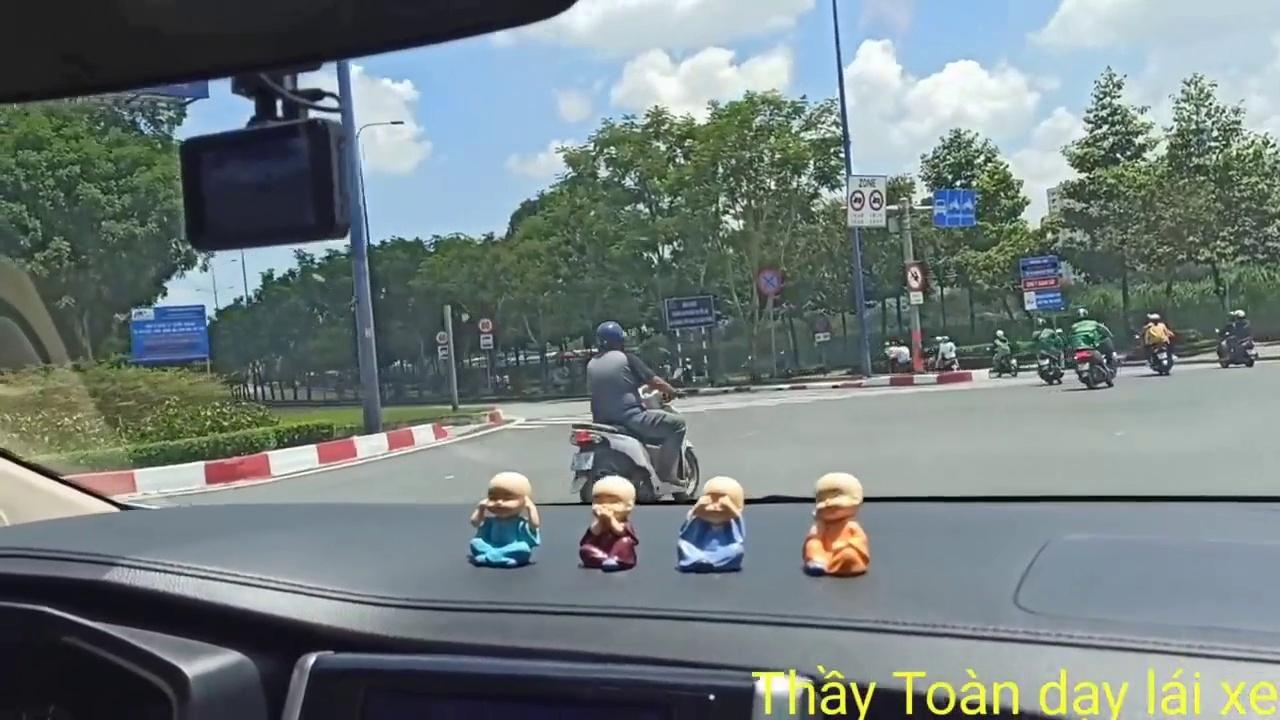Biển phụ: (438, 345, 452, 360), (479, 335, 494, 348)
Cấm cac phương tiện hoạt động trong khung giờ cố định: (847, 174, 887, 230)
Cấm dừng - Cấm đỗ: (758, 266, 780, 296)
Cấm xe máy: (904, 262, 926, 292)
GIơi hạn tốc độ 60Km/h: (435, 328, 450, 344)
Giới hạn tốc độ 80Km/h: (478, 316, 493, 332)
Khác: (131, 304, 210, 362), (1019, 254, 1067, 314)
Làn đường cho từng xe: (932, 186, 977, 228)
